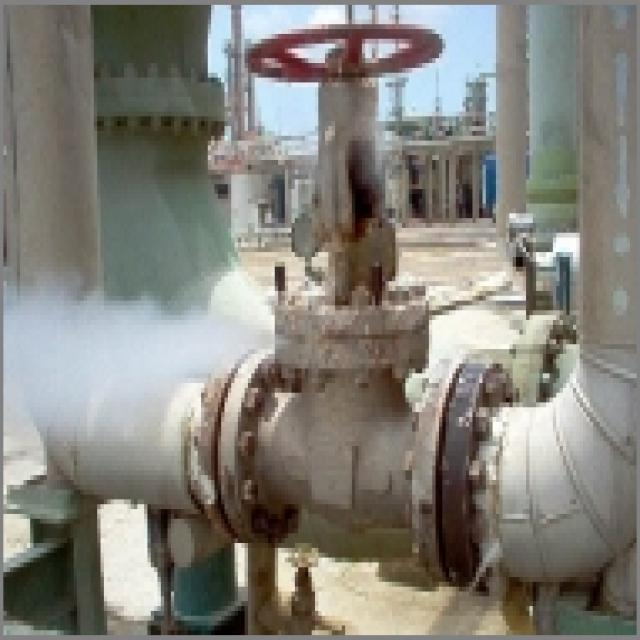Smoke: (3, 264, 274, 444)
